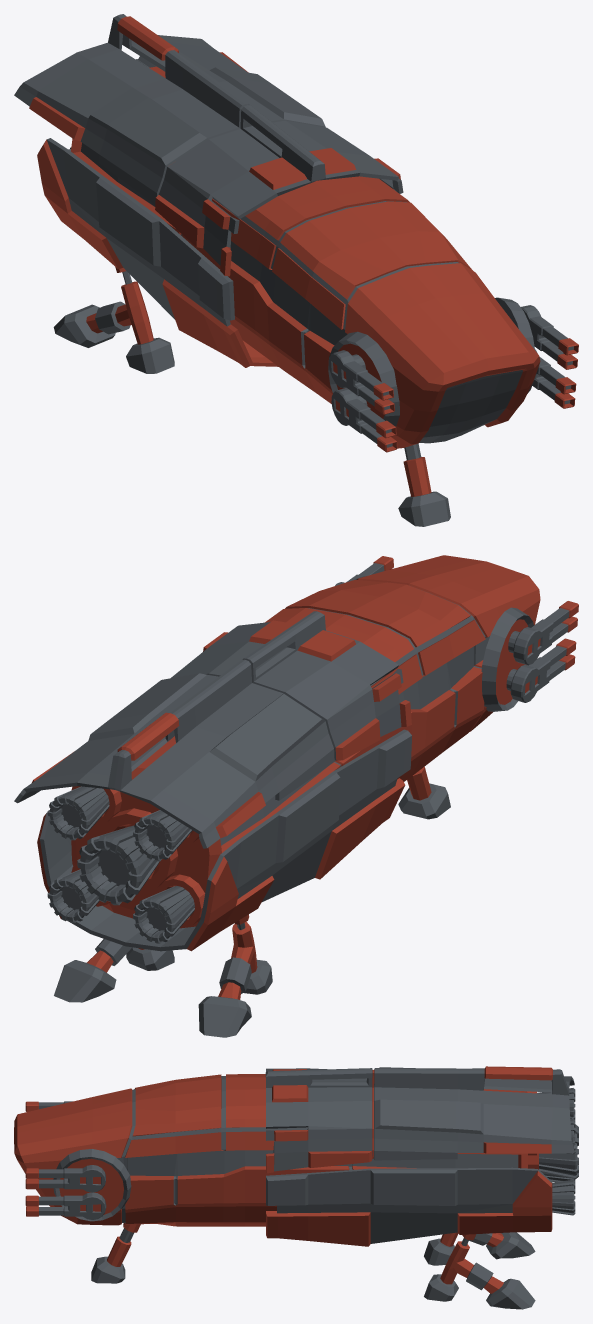
Rendered from Dropship_04_Red.fbx.
3 views of the same model, one above another, from view 1: azimuth 30°, elevation 25°; view 2: azimuth 150°, elevation 25°; view 3: azimuth 270°, elevation 25° (orthographic). The views are drawn at different scales.
Visible parts, largest first — view 1: Dropship_04_Red; view 2: Dropship_04_Red; view 3: Dropship_04_Red.
Part boxes in pixels (box(x1,y1,x2,y2)): Dropship_04_Red: box(14, 14, 578, 526); Dropship_04_Red: box(14, 555, 578, 1037); Dropship_04_Red: box(14, 1066, 578, 1309).
Size of the model in its own units: 439 by 601 by 1458.
1 material, 1 textured.
